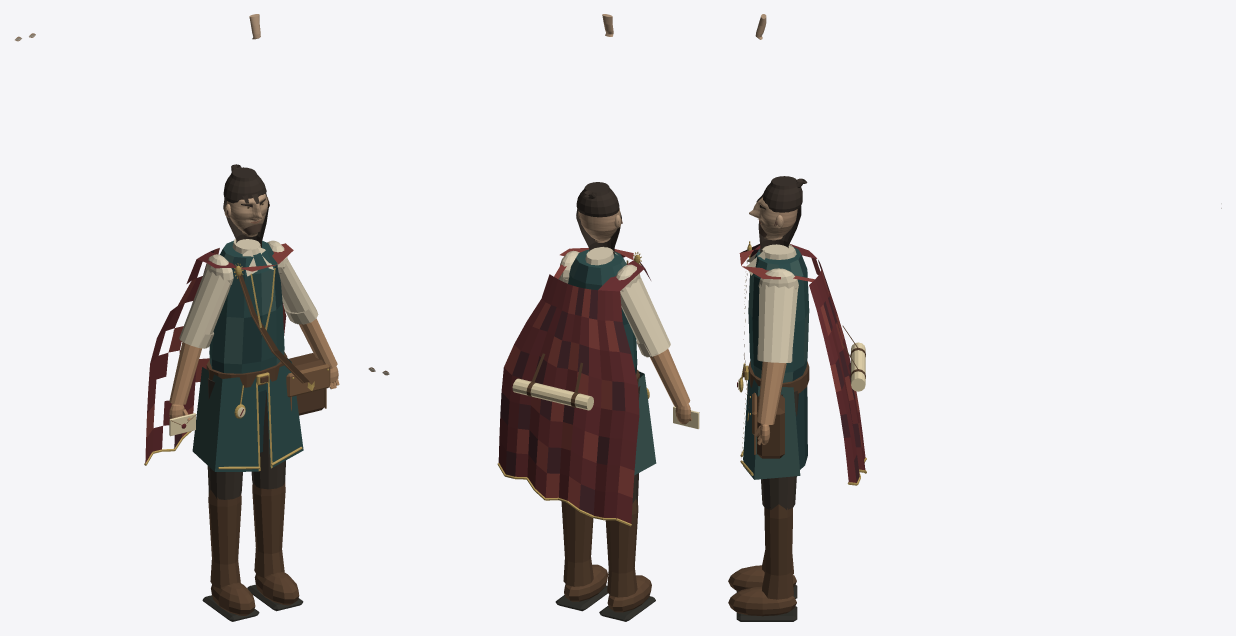
The model's file is courier.glb.
3 renders of one model, left to right at view 1: azimuth 30°, elevation 25°; view 2: azimuth 150°, elevation 25°; view 3: azimuth 270°, elevation 25°, orthographic.
Parts seen in each view (by area): view 1: Waistcoat, Split_coat_R, Cloak_folds, Boot_shaft_R, Boot_shaft_L, Split_coat_L, Linen_sleeve_R, Forearm_R, Trouser_thigh_L, Linen_sleeve_L, Hair_target_top, Boot_toe_R (+9 smaller); view 2: Cloak_folds, Boot_shaft_R, Boot_shaft_L, Linen_sleeve_R, Waistcoat, Split_coat_R, Hair_target_top, Map_roll, Forearm_R, Boot_toe_L, Boot_toe_R, Face (+3 smaller); view 3: Cloak_folds, Waistcoat, Linen_sleeve_L, Boot_shaft_L, Split_coat_L, Boot_toe_L, Forearm_L, Hair_target_top, Trouser_thigh_L, Messenger_satchel, Face, Back_coat (+1 smaller).
Part boxes in pixels (x1,y1,x2,y2): Waistcoat: (209,240,284,392); Split_coat_R: (192,367,258,471); Cloak_folds: (145,243,293,463); Boot_shaft_R: (208,490,241,588); Boot_shaft_L: (252,481,285,577); Split_coat_L: (266,358,303,468); Linen_sleeve_R: (179,267,231,348); Forearm_R: (169,342,201,404); Trouser_thigh_L: (251,392,285,489); Linen_sleeve_L: (279,258,318,324); Hair_target_top: (223,167,266,203); Boot_toe_R: (211,582,255,615); Cloak_folds: (498,247,650,523); Boot_shaft_R: (605,499,638,597); Boot_shaft_L: (561,501,593,586); Linen_sleeve_R: (620,276,670,357); Waistcoat: (568,249,637,374); Split_coat_R: (634,371,656,475); Hair_target_top: (576,182,619,217); Map_roll: (512,378,593,410); Forearm_R: (650,348,690,407); Boot_toe_L: (564,564,608,601); Boot_toe_R: (607,575,651,612); Face: (579,208,620,242); Cloak_folds: (739,244,865,482); Waistcoat: (748,245,809,382); Linen_sleeve_L: (758,284,798,362); Boot_shaft_L: (762,504,793,599); Split_coat_L: (743,372,800,479); Boot_toe_L: (728,586,796,616); Forearm_L: (757,361,786,424); Hair_target_top: (763,176,802,212); Trouser_thigh_L: (761,390,798,509); Messenger_satchel: (757,394,784,458); Face: (749,197,797,240); Back_coat: (795,386,807,469).
Bounding box in the file's own units: 0.7395 × 2.41 × 1.83.
